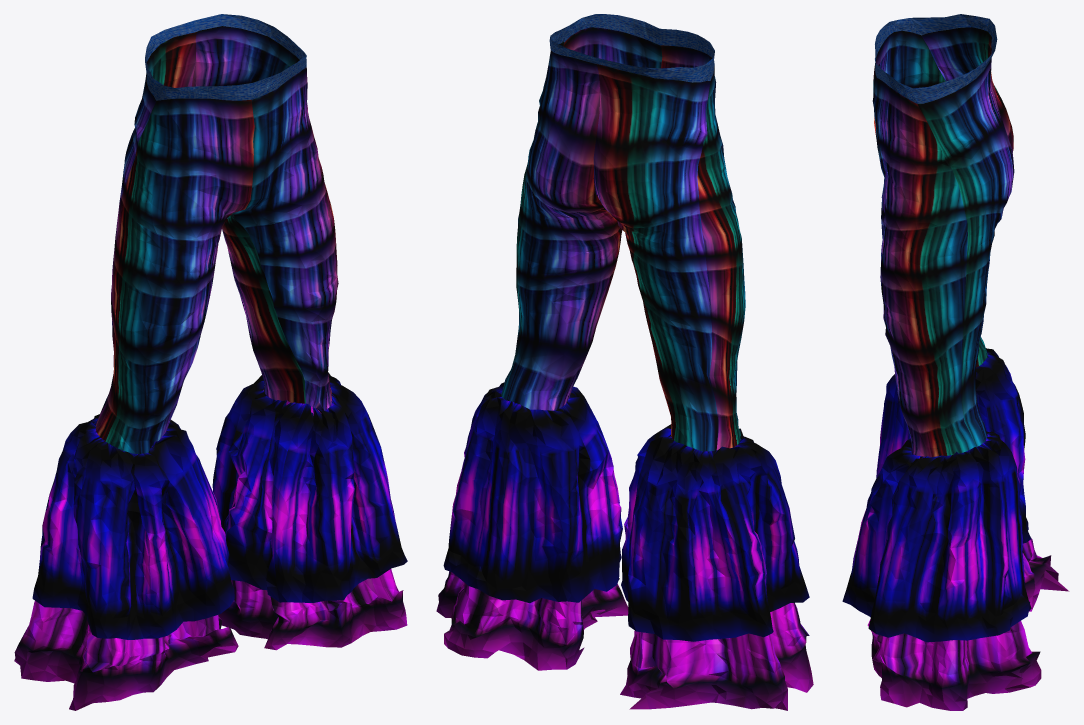
File: mhw_elvs_disco_pants_double_ruffles.glb
3 renders of one model, left to right at view 1: azimuth 30°, elevation 25°; view 2: azimuth 150°, elevation 25°; view 3: azimuth 270°, elevation 25°, orthographic. The views are drawn at different scales.
Parts seen in each view (by area): view 1: mhw_elvs_disco_pants_double_ruffles; view 2: mhw_elvs_disco_pants_double_ruffles; view 3: mhw_elvs_disco_pants_double_ruffles.
Boxes of the visible parts, bbox=[...] form: mhw_elvs_disco_pants_double_ruffles: bbox=[14, 14, 407, 710]; mhw_elvs_disco_pants_double_ruffles: bbox=[436, 14, 813, 710]; mhw_elvs_disco_pants_double_ruffles: bbox=[842, 14, 1069, 710].
Bounding box in the file's own units: 0.7222 × 1.19 × 0.4045.
Materials: 1 (1 with a texture image).
